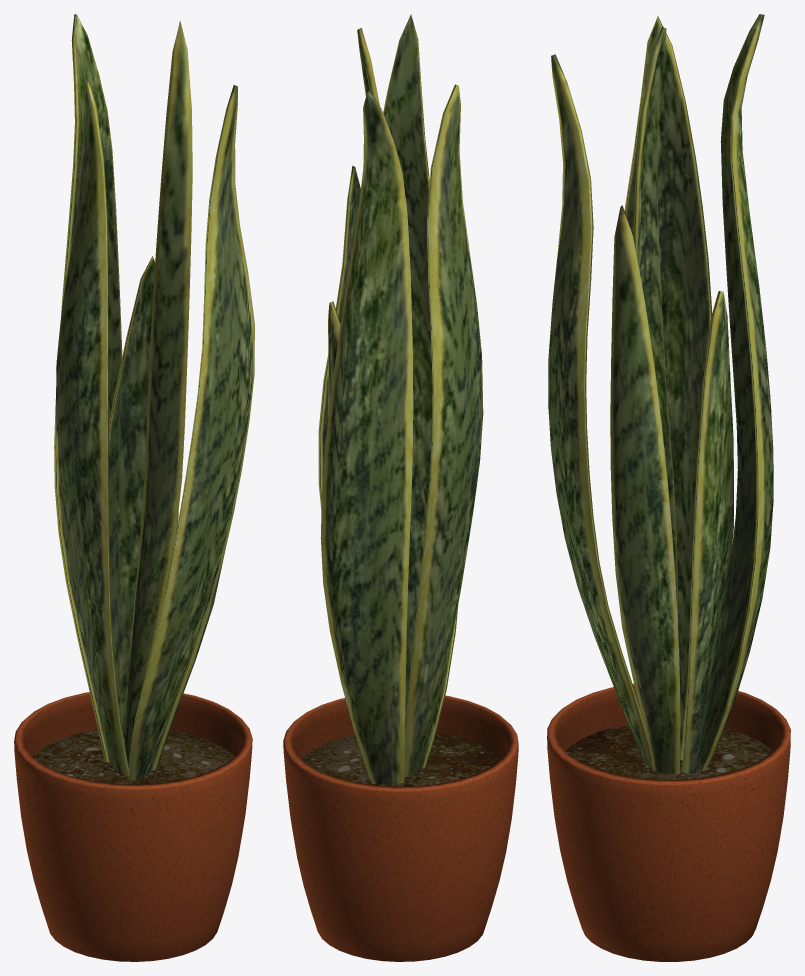
The model's file is Plant_B.gltf.
The picture shows the model from 3 angles, left to right: view 1: azimuth 30°, elevation 25°; view 2: azimuth 150°, elevation 25°; view 3: azimuth 270°, elevation 25°; orthographic projection. The views are drawn at different scales.
Visible parts, largest first — view 1: Plant_B; view 2: Plant_B; view 3: Plant_B.
Part boxes in pixels (<box>): Plant_B: <box>14,14,254,961</box>; Plant_B: <box>283,14,518,961</box>; Plant_B: <box>547,14,790,961</box>.
Size of the model in its own units: 0.1866 by 0.7775 by 0.1866.
Materials: 1 (1 with a texture image).
